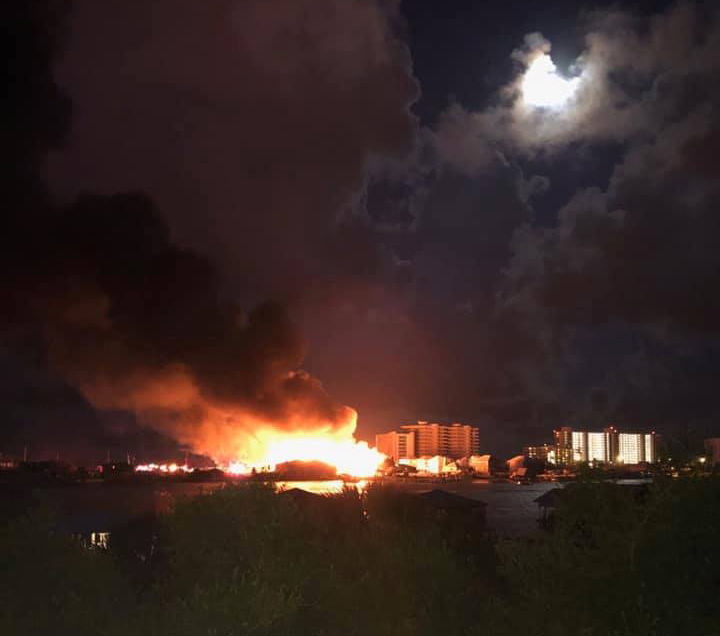Fire: (218, 419, 386, 488), (117, 377, 200, 423)
